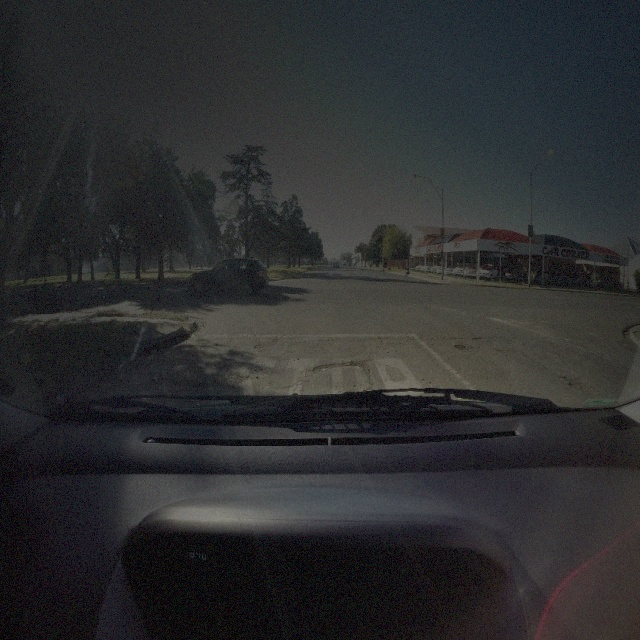pothole: (308, 358, 372, 381), (564, 375, 599, 395), (451, 341, 478, 354)
